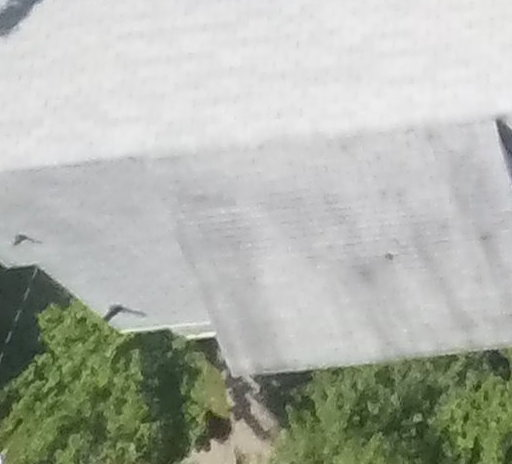gutter: (230, 341, 512, 379), (120, 315, 213, 340)
